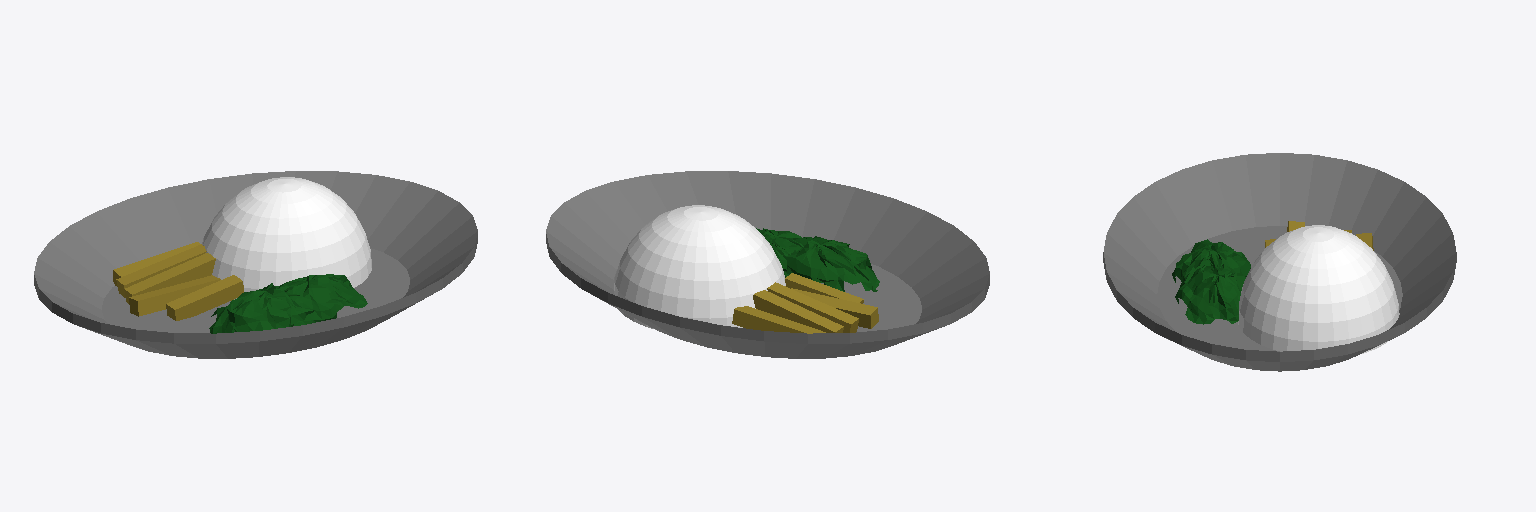
File: rice3_meat2_veg2.obj
3 renders of one model, left to right at view 1: azimuth 30°, elevation 25°; view 2: azimuth 150°, elevation 25°; view 3: azimuth 270°, elevation 25°, orthographic.
Parts seen in each view (by area): view 1: Cylinder, Sphere, Sphere.002, Sphere.001, Cube.004_Cube.005, Cube.001_Cube.002, Cube.002_Cube.003, Cube_Cube.001, Cube.003_Cube.004; view 2: Cylinder, Sphere, Sphere.002, Cube_Cube.001, Cube.003_Cube.004, Cube.001_Cube.002, Cube.002_Cube.003, Sphere.001, Cube.004_Cube.005; view 3: Cylinder, Sphere, Sphere.001, Sphere.002.
Boxes of the visible parts, <box> form: Cylinder: <box>34,171,477,358</box>; Sphere: <box>202,177,371,299</box>; Sphere.002: <box>209,283,314,333</box>; Sphere.001: <box>278,274,367,326</box>; Cube.004_Cube.005: <box>166,275,243,320</box>; Cube.001_Cube.002: <box>124,253,215,303</box>; Cube.002_Cube.003: <box>129,275,220,316</box>; Cube_Cube.001: <box>116,244,206,297</box>; Cube.003_Cube.004: <box>113,242,200,286</box>; Cylinder: <box>546,171,989,358</box>; Sphere: <box>614,205,785,330</box>; Sphere.002: <box>783,236,879,291</box>; Cube_Cube.001: <box>753,290,843,332</box>; Cube.003_Cube.004: <box>732,306,825,333</box>; Cube.001_Cube.002: <box>767,282,858,332</box>; Cube.002_Cube.003: <box>791,288,878,328</box>; Sphere.001: <box>756,228,803,277</box>; Cube.004_Cube.005: <box>785,273,863,303</box>; Cylinder: <box>1103,153,1456,371</box>; Sphere: <box>1238,225,1399,353</box>; Sphere.001: <box>1175,264,1245,324</box>; Sphere.002: <box>1172,239,1250,284</box>.
Size of the model in its own units: 5.75 by 1.25 by 4.31.